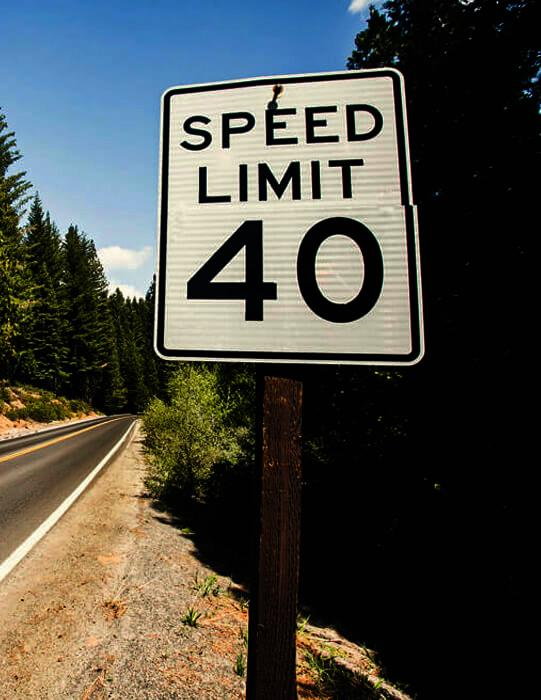speed limit sign: (148, 69, 421, 357)
